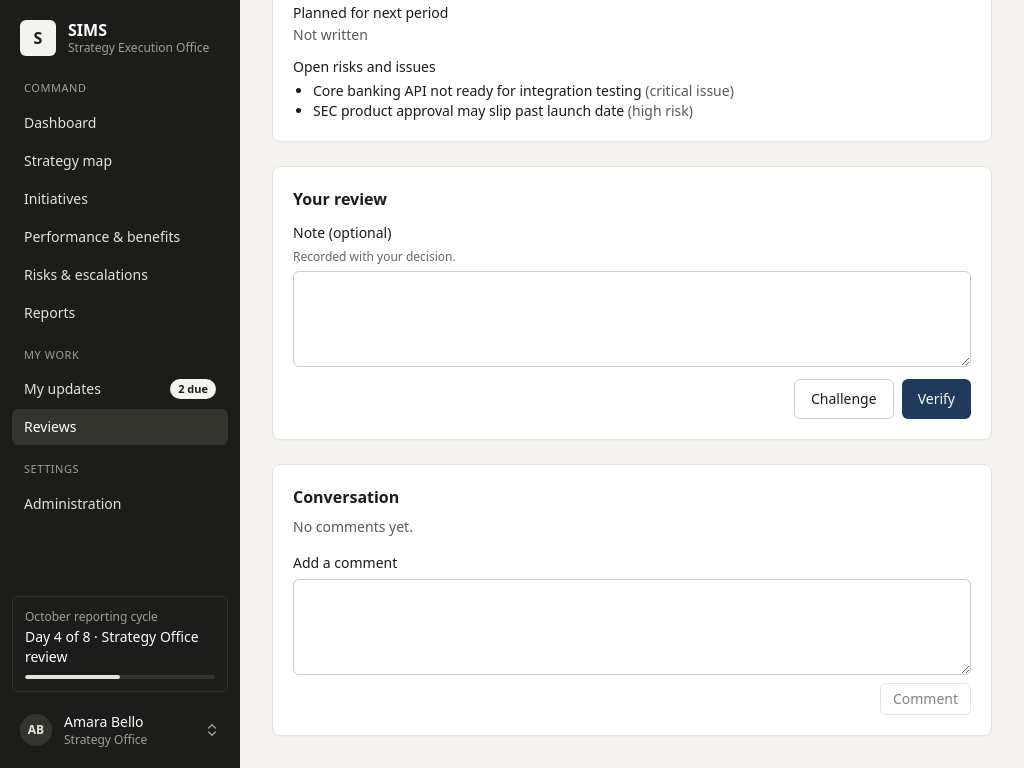
Test case: Update reviews › adds a comment to the conversation
The width and height of the screenshot is (1024, 768).
(page scrolled)
Type "Please attach the test report." into the text box labelled "Add a comment" at point(632, 627), box [293,579,971,675]
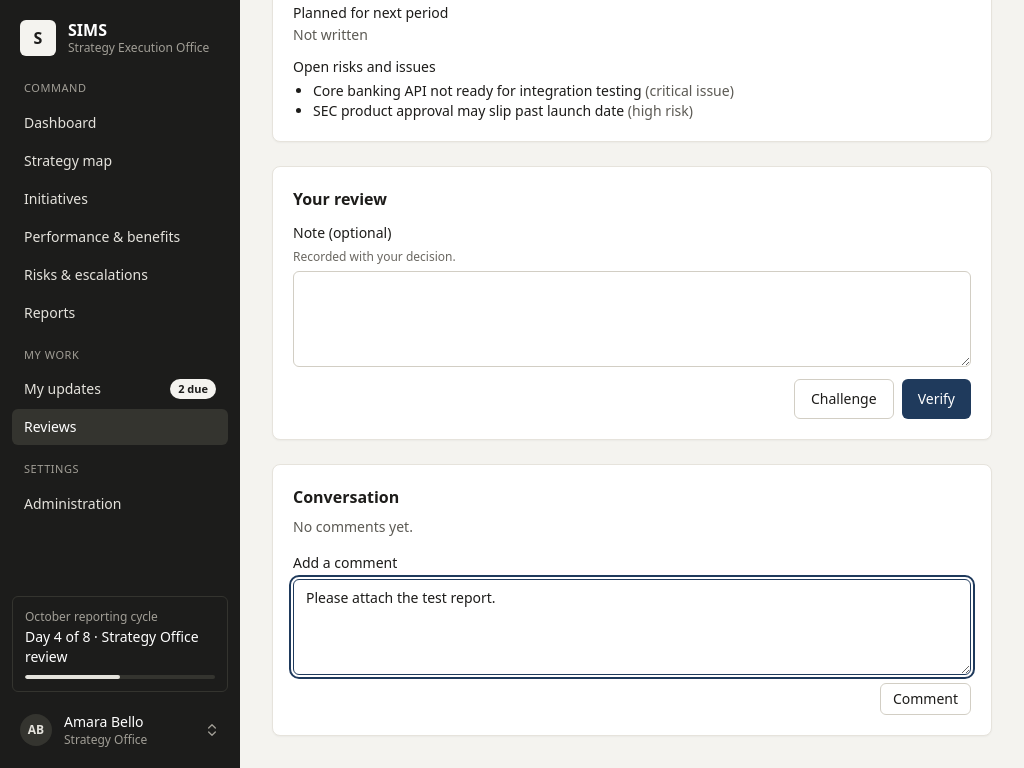
Click the button "Comment" at point(925, 699), box [880,683,971,715]
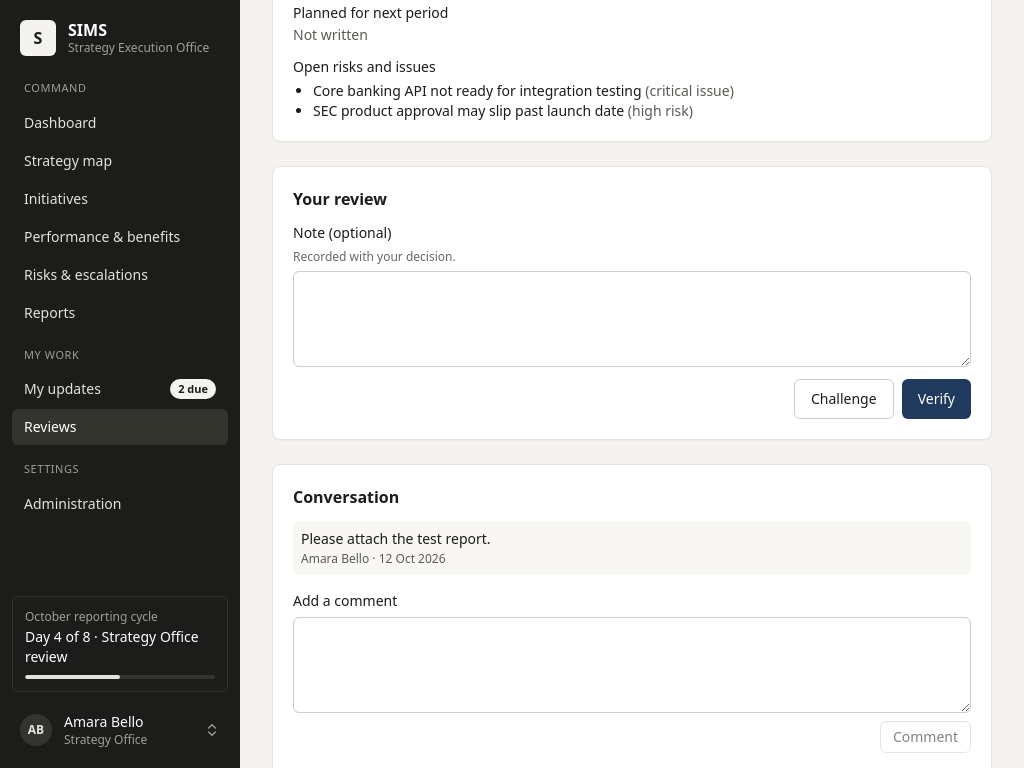
Expected: the text "Please attach the test report." is shown, [301,529,491,548]
